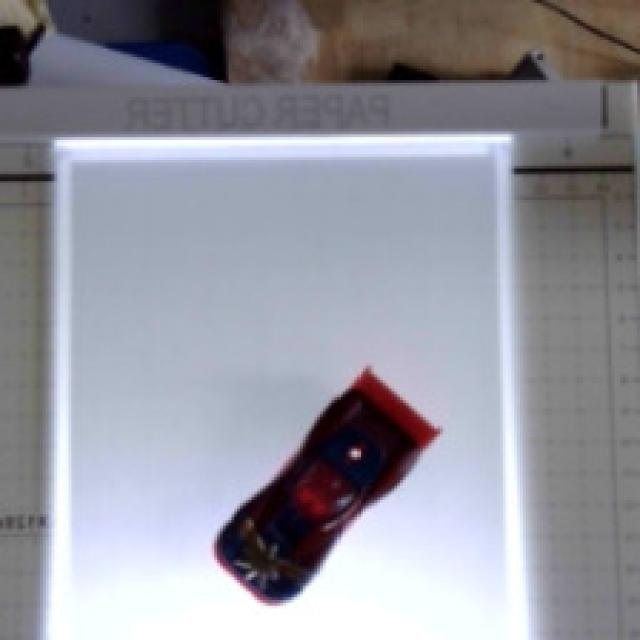Red Car: (167, 361, 454, 622)
